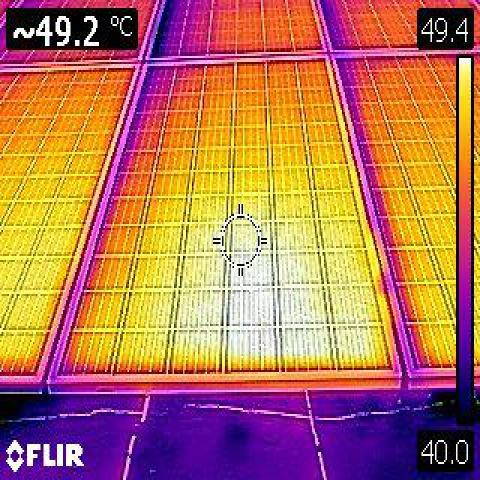fault: (275, 237, 321, 359)
